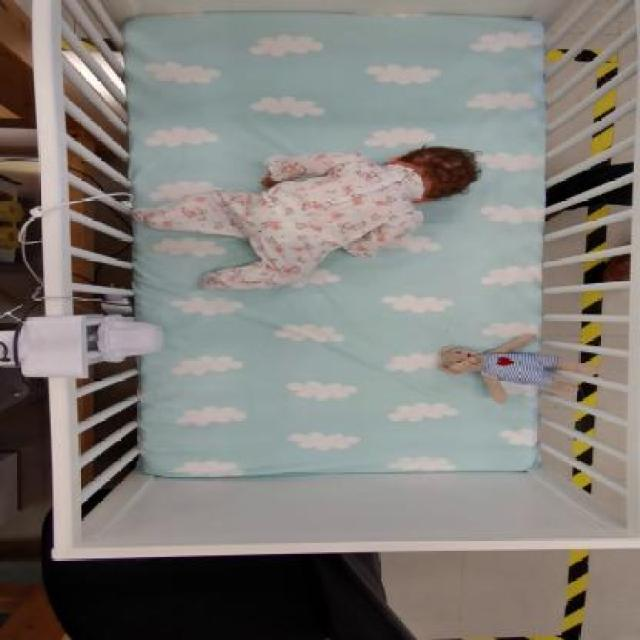baby: (132, 141, 484, 292)
